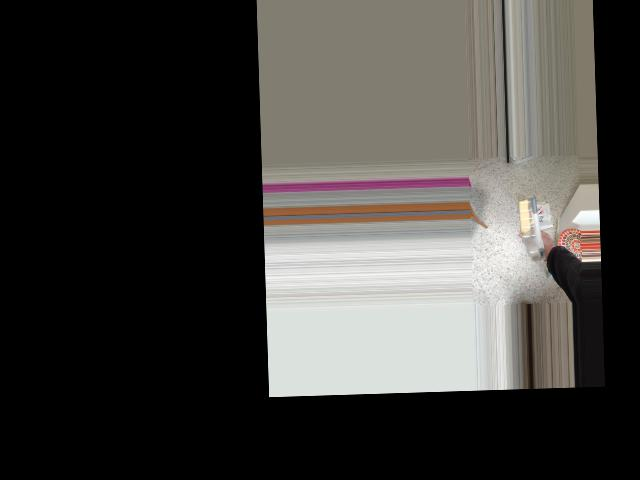cheese: (501, 195, 577, 249)
